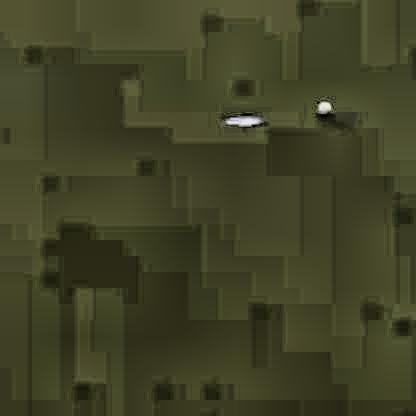golfball: (314, 98, 330, 113)
